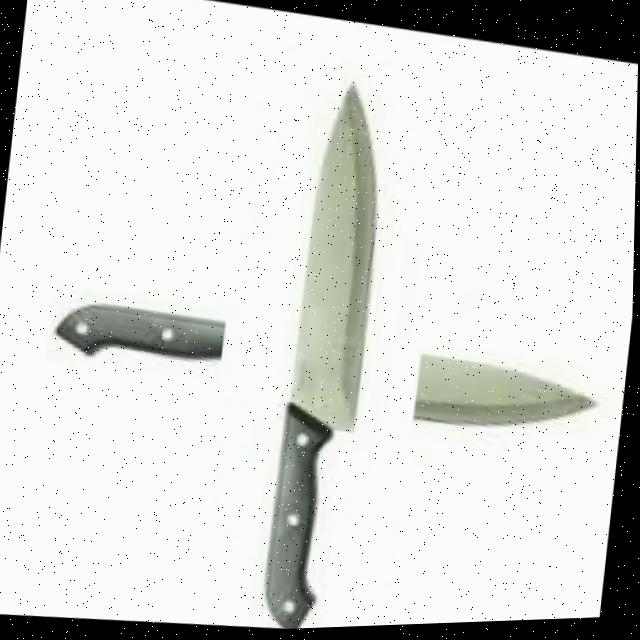knife: (45, 284, 608, 454), (260, 79, 394, 632)
